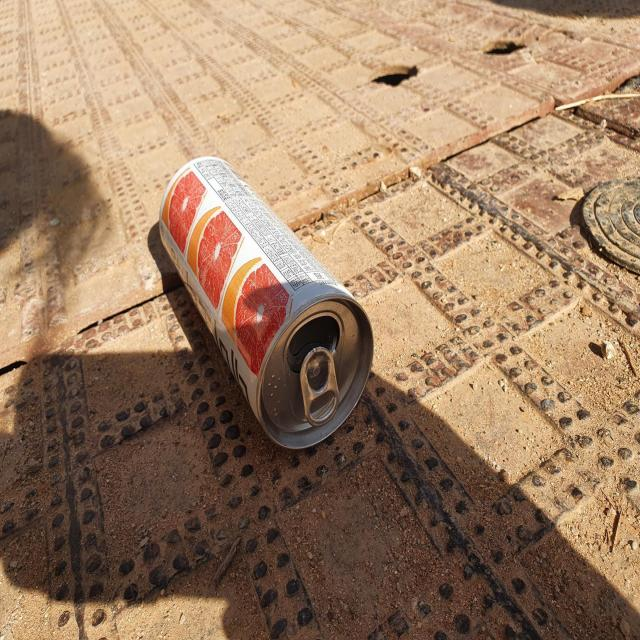can: (159, 156, 374, 450)
